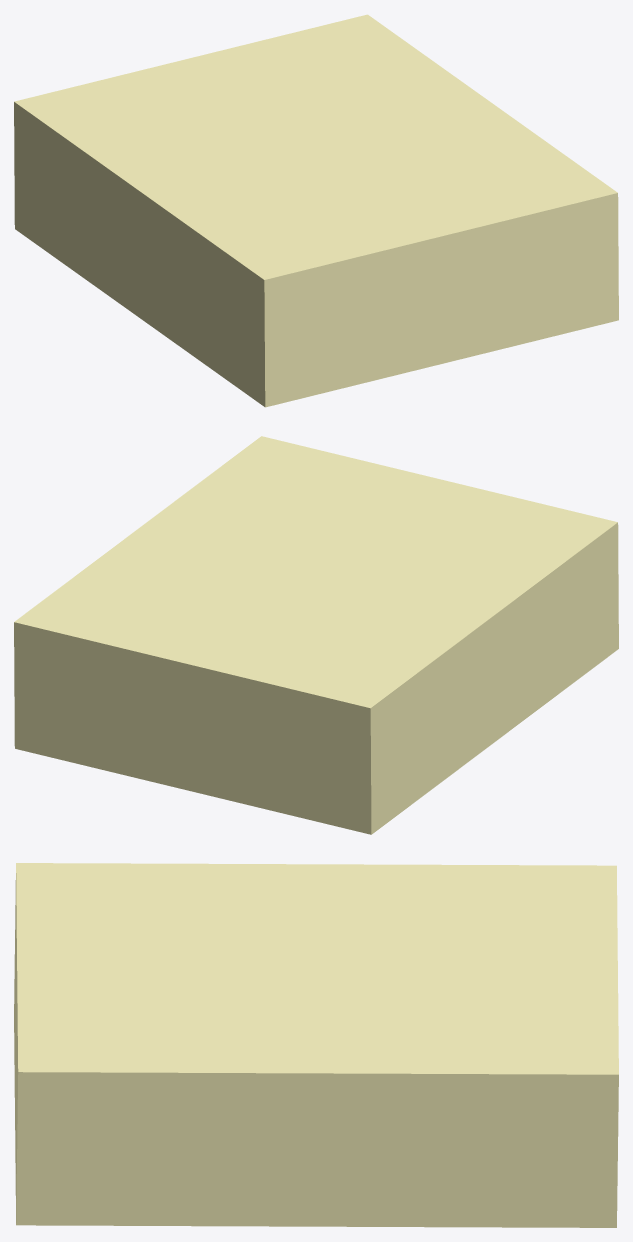
The model's file is shop_096.glb.
3 views of the same model, one above another, from view 1: azimuth 30°, elevation 25°; view 2: azimuth 150°, elevation 25°; view 3: azimuth 270°, elevation 25° (orthographic). The views are drawn at different scales.
Parts seen in each view (by area): view 1: shop_096; view 2: shop_096; view 3: shop_096.
Boxes of the visible parts, x1,y1,x2,y2 form: shop_096: [14, 14, 618, 407]; shop_096: [14, 436, 618, 834]; shop_096: [14, 863, 618, 1227].
Bounding box in the file's own units: 0.0666 × 0.0232 × 0.081.
Materials: 1 (1 with a texture image).
